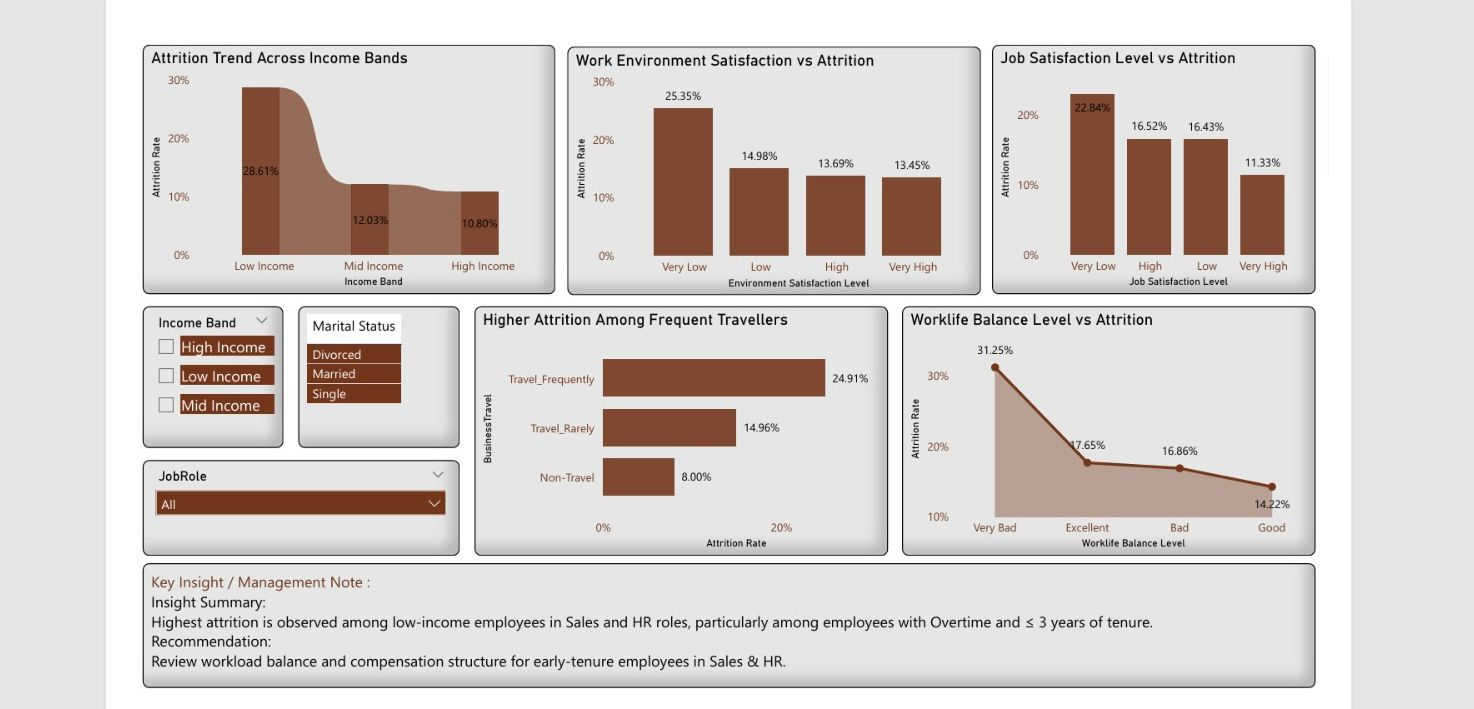

Layout of this report page (visuals, bound fields, positions):
{"tool":"powerbi","page":{"name":"Compensation & Satisfaction Insights","canvas":[1280,720],"ordinal":1},"visuals":[{"type":"ribbonChart","title":"Attrition Trend Across Income Bands","fields":{"Category":["HR Employee Attrition&Retention.Income Band"],"Y":["HR Employee Attrition&Retention.Attrition Rate"]},"box":[14.7,24.5,440.2,265.4],"z":0},{"type":"columnChart","title":"Job Satisfaction Level vs Attrition","fields":{"Y":["HR Employee Attrition&Retention.Attrition Rate"],"Category":["HR Employee Attrition&Retention.Job Satisfaction Level"]},"box":[920.8,24.5,345,265.4],"z":1000},{"type":"columnChart","title":"Work Environment Satisfaction vs Attrition","fields":{"Y":["HR Employee Attrition&Retention.Attrition Rate"],"Category":["HR Employee Attrition&Retention.Environment Satisfaction Level"]},"box":[468.3,25.7,440.2,265.4],"z":2000},{"type":"barChart","title":"Higher Attrition Among Frequent Travellers","fields":{"Y":["HR Employee Attrition&Retention.Attrition Rate"],"Category":["HR Employee Attrition&Retention.BusinessTravel"]},"box":[369.3,303.3,440.2,265.4],"z":3000},{"type":"lineChart","title":"Worklife Balance Level vs Attrition","fields":{"Y":["HR Employee Attrition&Retention.Attrition Rate"],"Category":["HR Employee Attrition&Retention.Worklife Balance Level"]},"box":[825.4,303.3,440.2,265.4],"z":4000},{"type":"slicer","fields":{"Values":["HR Employee Attrition&Retention.Income Band"]},"box":[14.7,303.3,150.4,150.4],"z":5000},{"type":"tableEx","fields":{"Values":["HR Employee Attrition&Retention.MaritalStatus"]},"box":[181,303.3,172.4,150.4],"z":6000},{"type":"slicer","fields":{"Values":["HR Employee Attrition&Retention.JobRole"]},"box":[14.7,467.1,338.7,101.5],"z":7000},{"type":"textbox","box":[14.7,577.2,1251,133.3],"z":8000},{"type":"actionButton","box":[0,0,48.9,25.7],"z":9000},{"type":"actionButton","box":[1242.4,0,37.9,25.7],"z":10000}]}

Visuals, with their boxes in screenshot pixels (x1, y1, x2, y2):
"Attrition Trend Across Income Bands" ribbonChart: (140, 42, 553, 291)
"Job Satisfaction Level vs Attrition" columnChart: (991, 42, 1314, 291)
"Work Environment Satisfaction vs Attrition" columnChart: (566, 43, 979, 292)
"Higher Attrition Among Frequent Travellers" barChart: (473, 304, 886, 553)
"Worklife Balance Level vs Attrition" lineChart: (901, 304, 1314, 553)
slicer - HR Employee Attrition&Retention.Income Band: (140, 304, 282, 445)
tableEx - HR Employee Attrition&Retention.MaritalStatus: (296, 304, 458, 445)
slicer - HR Employee Attrition&Retention.JobRole: (140, 457, 458, 553)
textbox: (140, 561, 1314, 686)
actionButton: (127, 19, 173, 43)
actionButton: (1292, 19, 1328, 43)
